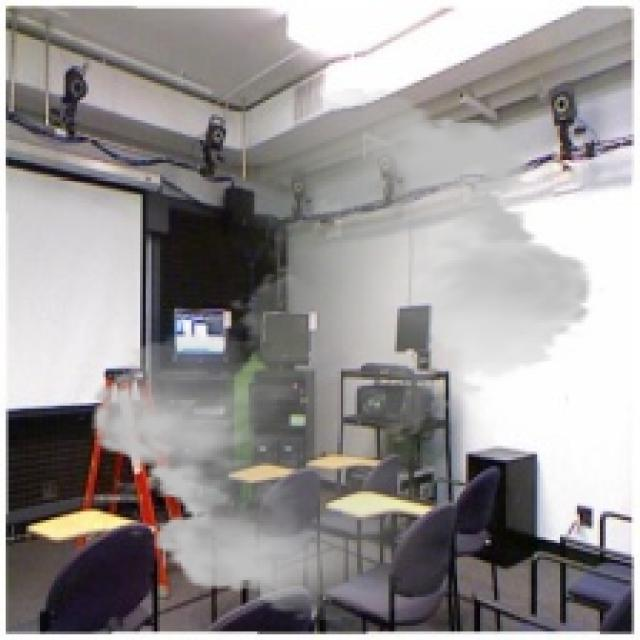smoke: (74, 89, 609, 620)
